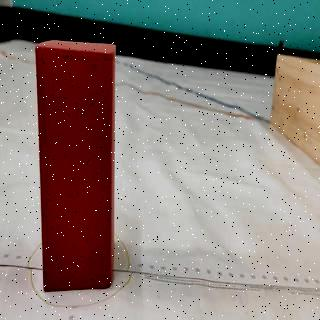redbox: (34, 38, 116, 291)
